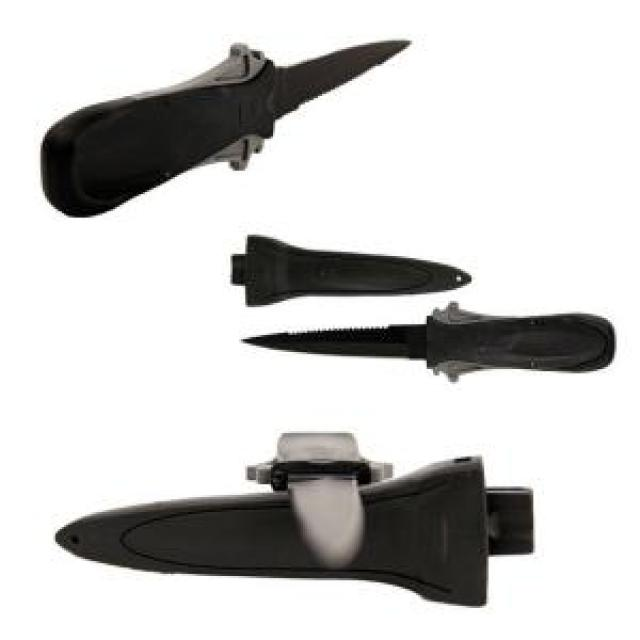knife: (37, 30, 420, 226), (224, 301, 625, 381)
